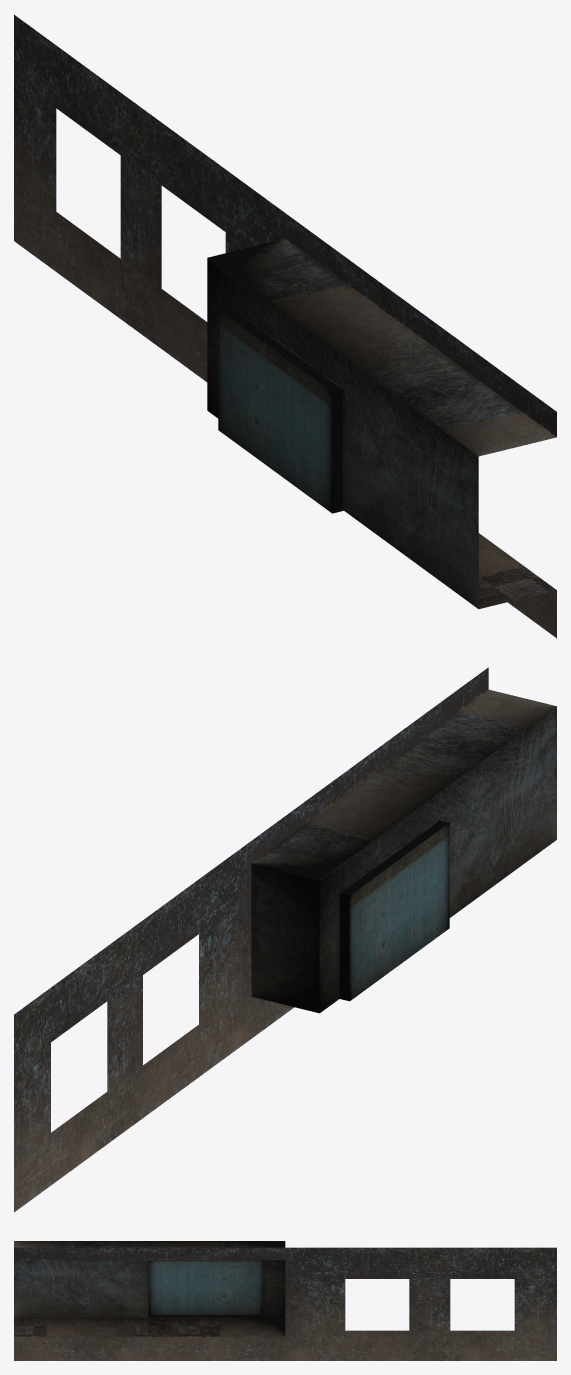
File: Wall_02.FBX
The picture shows the model from 3 angles, top to bottom: view 1: azimuth 30°, elevation 25°; view 2: azimuth 150°, elevation 25°; view 3: azimuth 270°, elevation 25°; orthographic projection. The views are drawn at different scales.
Visible parts, largest first — view 1: Wall_02; view 2: Wall_02; view 3: Wall_02.
Part boxes in pixels (x1=…): Wall_02: x1=14, y1=14, x2=556, y2=638; Wall_02: x1=14, y1=667, x2=556, y2=1212; Wall_02: x1=14, y1=1241, x2=556, y2=1360.
Size of the model in its own units: 213 by 511 by 2220.
